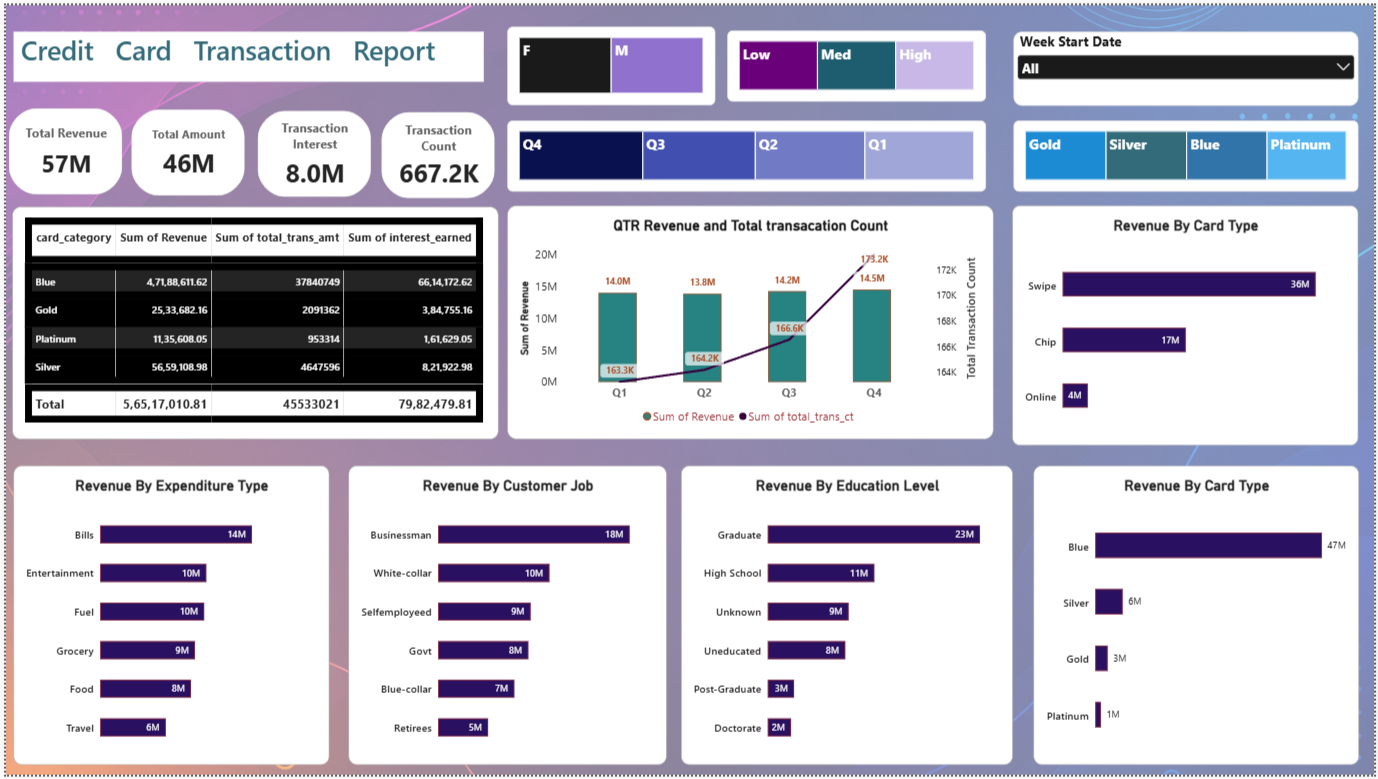

The page's visual inventory and layout, read from the dashboard file:
{"tool":"powerbi","page":{"name":"CC Transaction","canvas":[1920,1080],"ordinal":0},"visuals":[{"type":"textbox","box":[10,36,660,70],"z":0},{"type":"lineStackedColumnComboChart","title":"QTR Revenue and Total transacation Count","fields":{"Category":["public cc_detail.qtr"],"Y2":["Sum(public cc_detail.total_trans_ct)"],"Y":["Sum(public cc_detail.Revenue)"]},"box":[704,280,682,328],"z":1000},{"type":"barChart","title":"Revenue By Expenditure Type","fields":{"Category":["public cc_detail.exp_type"],"Y":["Sum(public cc_detail.Revenue)"]},"box":[10.5,645.4,443,420.4],"z":2000},{"type":"barChart","title":"Revenue By Customer Job ","fields":{"Category":["public cust_detail.customer_job"],"Y":["Sum(public cc_detail.Revenue)"]},"box":[480,646,446.5,420.4],"z":3000},{"type":"barChart","title":"Revenue By Education Level ","fields":{"Category":["public cust_detail.education_level"],"Y":["Sum(public cc_detail.Revenue)"]},"box":[948,646,465.7,420.4],"z":4000},{"type":"barChart","title":"Revenue By Card Type","fields":{"Category":["public cc_detail.card_category"],"Y":["Sum(public cc_detail.Revenue)"]},"box":[1442.4,645.4,456.7,420],"z":5000},{"type":"barChart","title":"Revenue By Card Type","fields":{"Category":["public cc_detail.use_chip"],"Y":["Sum(public cc_detail.Revenue)"]},"box":[1412.3,280.7,486,336.8],"z":6000},{"type":"tableEx","fields":{"Values":["public cc_detail.card_category","Sum(public cc_detail.Revenue)","Sum(public cc_detail.total_trans_amt)","Sum(public cc_detail.interest_earned)"]},"box":[8,282,682,326],"z":7000},{"type":"cardVisual","fields":{"Data":["Sum(public cc_detail.Revenue)"]},"box":[0,140,167.4,129.1],"z":8000},{"type":"cardVisual","fields":{"Data":["Sum(public cc_detail.total_trans_amt)"]},"box":[172,142,167.4,129.1],"z":9000},{"type":"cardVisual","fields":{"Data":["Sum(public cc_detail.interest_earned)"]},"box":[350,144,167.4,129.1],"z":10000},{"type":"cardVisual","fields":{"Data":["Sum(public cc_detail.total_trans_ct)"]},"box":[522,146,167.4,129.1],"z":11000},{"type":"slicer","fields":{"Values":["public cc_detail.week_start_date"]},"box":[1414,36,484,104],"z":12000},{"type":"treemap","fields":{"Group":["public cc_detail.card_category"],"Values":["Avg(public cust_detail.client_num)"]},"box":[1414,162,484,100],"z":13000},{"type":"treemap","fields":{"Group":["public cust_detail.gender"],"Values":["Avg(public cust_detail.client_num)"]},"box":[704,30,292,110],"z":14000},{"type":"treemap","fields":{"Group":["public cc_detail.qtr"],"Values":["Avg(public cust_detail.client_num)"]},"box":[704,162,672,100],"z":15000},{"type":"treemap","fields":{"Group":["public cust_detail.IncomeGroup"],"Values":["Avg(public cust_detail.client_num)"]},"box":[1012.3,35.1,363.2,100],"z":16000}]}

Visuals, with their boxes in screenshot pixels (x1, y1, x2, y2), scaled from the page's 1920x1080 canvas onto the 1378x779 screenshot:
textbox: detection(7, 26, 481, 76)
"QTR Revenue and Total transacation Count" lineStackedColumnComboChart: detection(505, 202, 995, 439)
"Revenue By Expenditure Type" barChart: detection(8, 466, 325, 769)
"Revenue By Customer Job " barChart: detection(344, 466, 665, 769)
"Revenue By Education Level " barChart: detection(680, 466, 1015, 769)
"Revenue By Card Type" barChart: detection(1035, 466, 1363, 768)
"Revenue By Card Type" barChart: detection(1014, 202, 1362, 445)
tableEx - public cc_detail.card_category x Sum(public cc_detail.Revenue): detection(6, 203, 495, 439)
cardVisual - Sum(public cc_detail.Revenue): detection(0, 101, 120, 194)
cardVisual - Sum(public cc_detail.total_trans_amt): detection(123, 102, 244, 196)
cardVisual - Sum(public cc_detail.interest_earned): detection(251, 104, 371, 197)
cardVisual - Sum(public cc_detail.total_trans_ct): detection(375, 105, 495, 198)
slicer - public cc_detail.week_start_date: detection(1015, 26, 1362, 101)
treemap - public cc_detail.card_category x Avg(public cust_detail.client_num): detection(1015, 117, 1362, 189)
treemap - public cust_detail.gender x Avg(public cust_detail.client_num): detection(505, 22, 715, 101)
treemap - public cc_detail.qtr x Avg(public cust_detail.client_num): detection(505, 117, 988, 189)
treemap - public cust_detail.IncomeGroup x Avg(public cust_detail.client_num): detection(727, 25, 987, 97)
